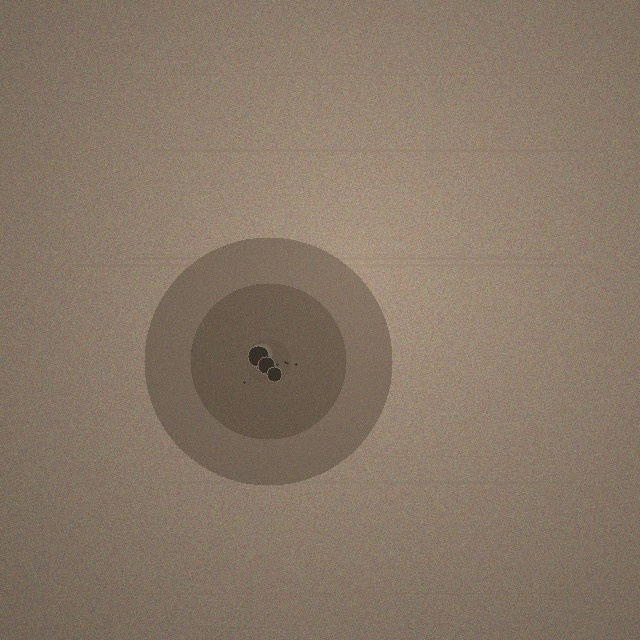shrinkage: (144, 237, 392, 485)
